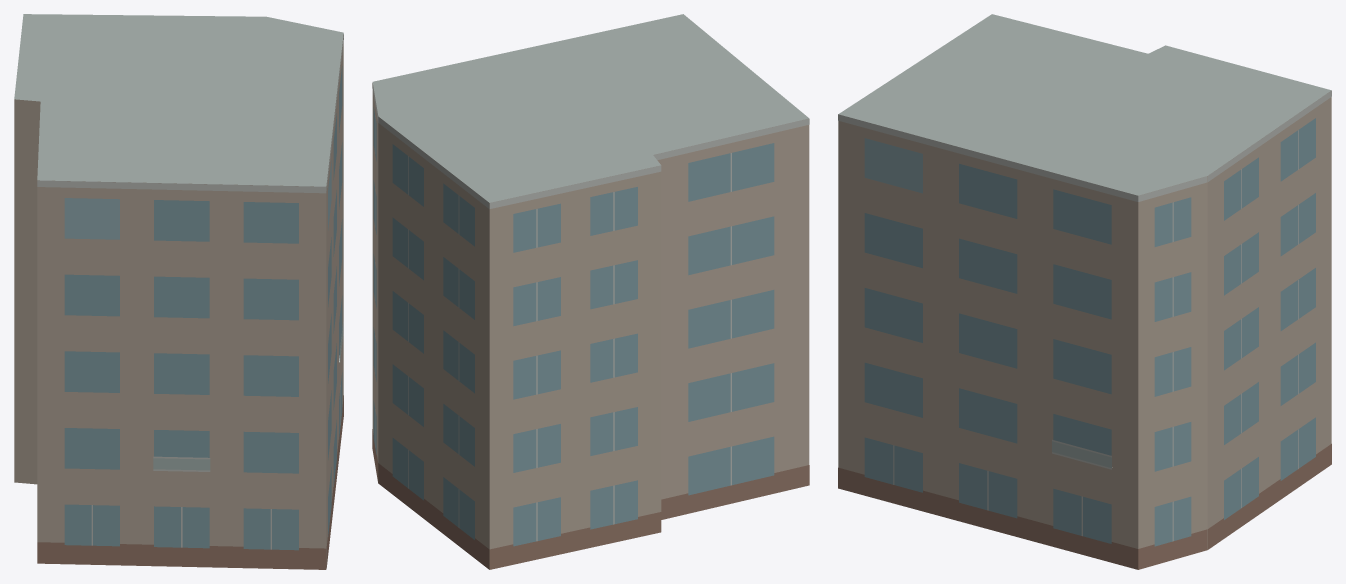
File: survey-upis-33043775.glb
The picture shows the model from 3 angles, left to right: view 1: azimuth 30°, elevation 25°; view 2: azimuth 150°, elevation 25°; view 3: azimuth 270°, elevation 25°; orthographic projection. The views are drawn at different scales.
Visible parts, largest first — view 1: survey-upis-33043775.tmp; view 2: survey-upis-33043775.tmp; view 3: survey-upis-33043775.tmp.
Boxes of the visible parts, left/top/right/bottom form: survey-upis-33043775.tmp: left=14, top=14, right=343, bottom=569; survey-upis-33043775.tmp: left=372, top=14, right=809, bottom=569; survey-upis-33043775.tmp: left=838, top=14, right=1331, bottom=569.
Size of the model in its own units: 14.8 by 14.2 by 16.98.
